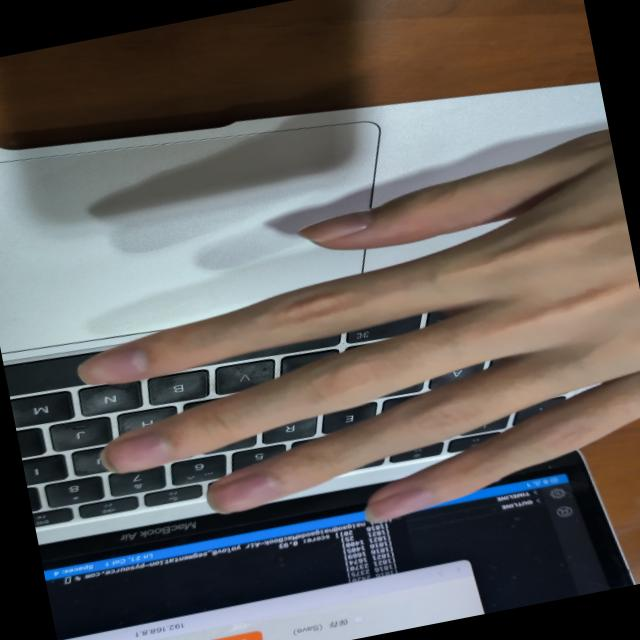Nail: (206, 473, 282, 513), (99, 431, 172, 472), (77, 349, 147, 384), (300, 209, 371, 241), (365, 488, 433, 520)
